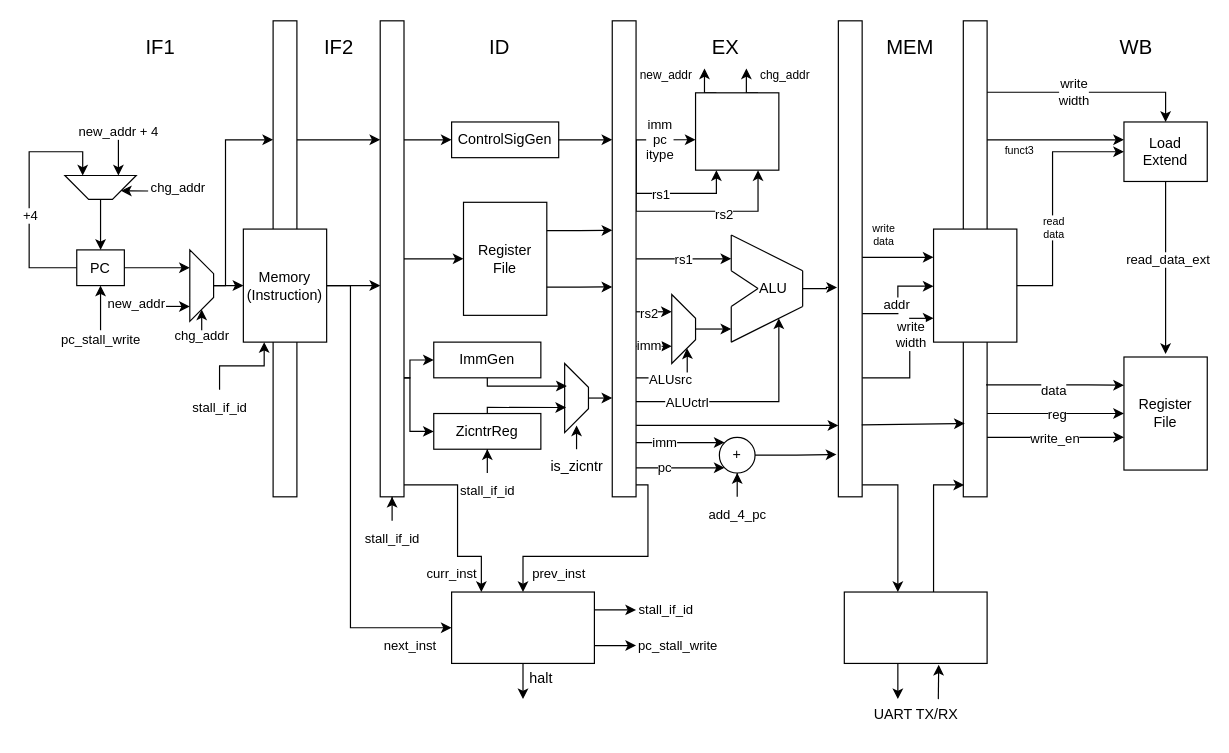
Some shapes in this 1229 by 753 pixel diagram are drawn without their labels. The shapes that lost their labels are listed below. From the top down, each one's box as (x1, y1, x2, y2) in pixels, then its label:
(694, 92, 779, 170): JumpBranch Calculate
(932, 228, 1017, 342): Memory (Data)
(450, 591, 594, 663): Orchestrator
(843, 591, 987, 663): SimpleIO
